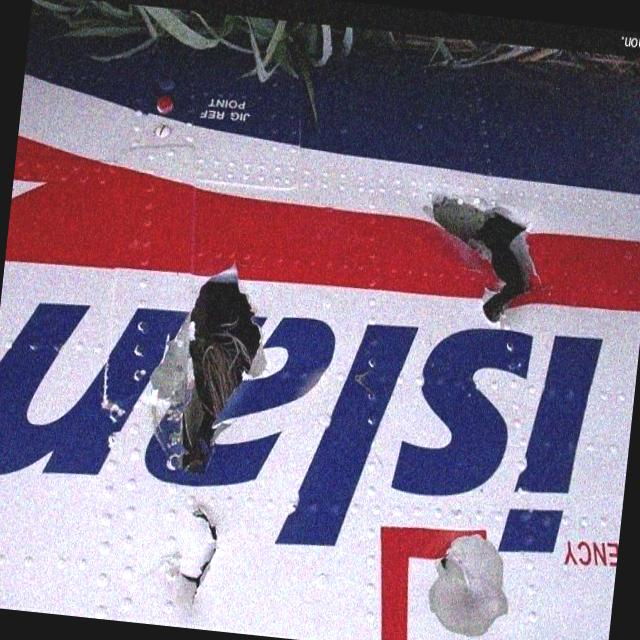crack: (136, 244, 276, 486), (412, 190, 546, 330), (157, 498, 226, 612), (432, 546, 480, 598)
